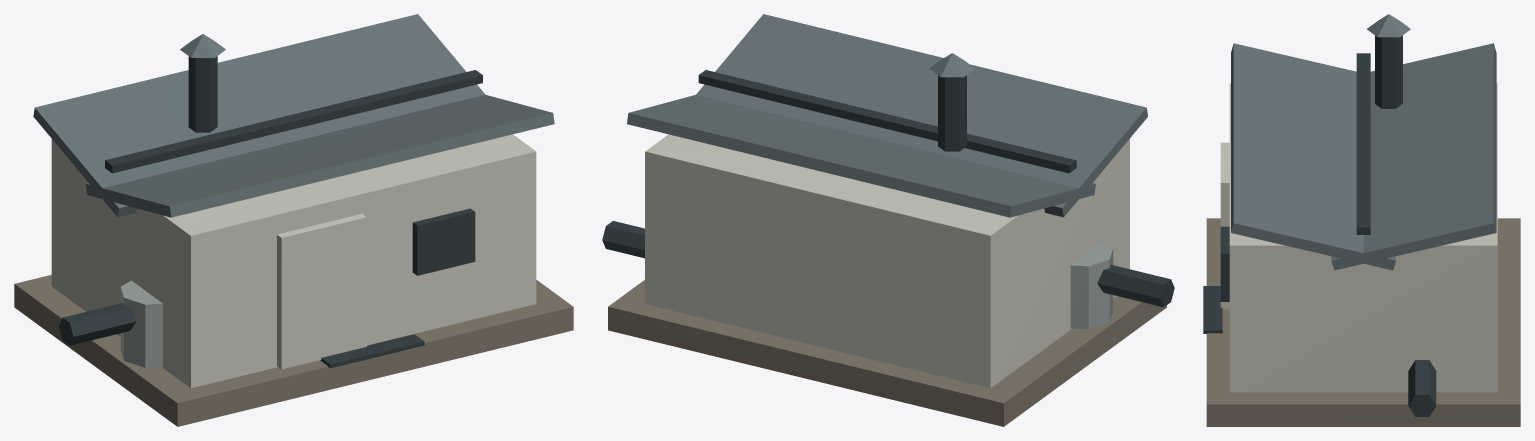
The model's file is Creamery.glb.
3 views of the same model, side by side, from view 1: azimuth 30°, elevation 25°; view 2: azimuth 150°, elevation 25°; view 3: azimuth 270°, elevation 25° (orthographic). The views are drawn at different scales.
Parts seen in each view (by area): view 1: wind-pump-static-creamery-pale-production-panel, wind-pump-static-creamery-galvanized-roof, wind-pump-static-creamery-stone-curb, wind-pump-static-creamery-dark-processing-frame, wind-pump-static-creamery-separator-tank; view 2: wind-pump-static-creamery-pale-production-panel, wind-pump-static-creamery-galvanized-roof, wind-pump-static-creamery-stone-curb, wind-pump-static-creamery-dark-processing-frame, wind-pump-static-creamery-separator-tank; view 3: wind-pump-static-creamery-galvanized-roof, wind-pump-static-creamery-pale-production-panel, wind-pump-static-creamery-stone-curb, wind-pump-static-creamery-dark-processing-frame.
Part boxes in pixels (x1=…): wind-pump-static-creamery-pale-production-panel: x1=51, y1=134, x2=536, y2=388; wind-pump-static-creamery-galvanized-roof: x1=33, y1=14, x2=554, y2=217; wind-pump-static-creamery-stone-curb: x1=14, y1=275, x2=573, y2=426; wind-pump-static-creamery-dark-processing-frame: x1=59, y1=56, x2=482, y2=368; wind-pump-static-creamery-separator-tank: x1=120, y1=280, x2=162, y2=367; wind-pump-static-creamery-pale-production-panel: x1=645, y1=134, x2=1129, y2=388; wind-pump-static-creamery-galvanized-roof: x1=627, y1=14, x2=1147, y2=217; wind-pump-static-creamery-stone-curb: x1=608, y1=280, x2=1166, y2=426; wind-pump-static-creamery-dark-processing-frame: x1=602, y1=70, x2=1174, y2=307; wind-pump-static-creamery-separator-tank: x1=1070, y1=242, x2=1113, y2=329; wind-pump-static-creamery-galvanized-roof: x1=1231, y1=14, x2=1496, y2=270; wind-pump-static-creamery-pale-production-panel: x1=1220, y1=83, x2=1497, y2=392; wind-pump-static-creamery-stone-curb: x1=1206, y1=218, x2=1520, y2=426; wind-pump-static-creamery-dark-processing-frame: x1=1203, y1=35, x2=1436, y2=416.
Size of the model in its own units: 3.99 by 2.24 by 2.27.
